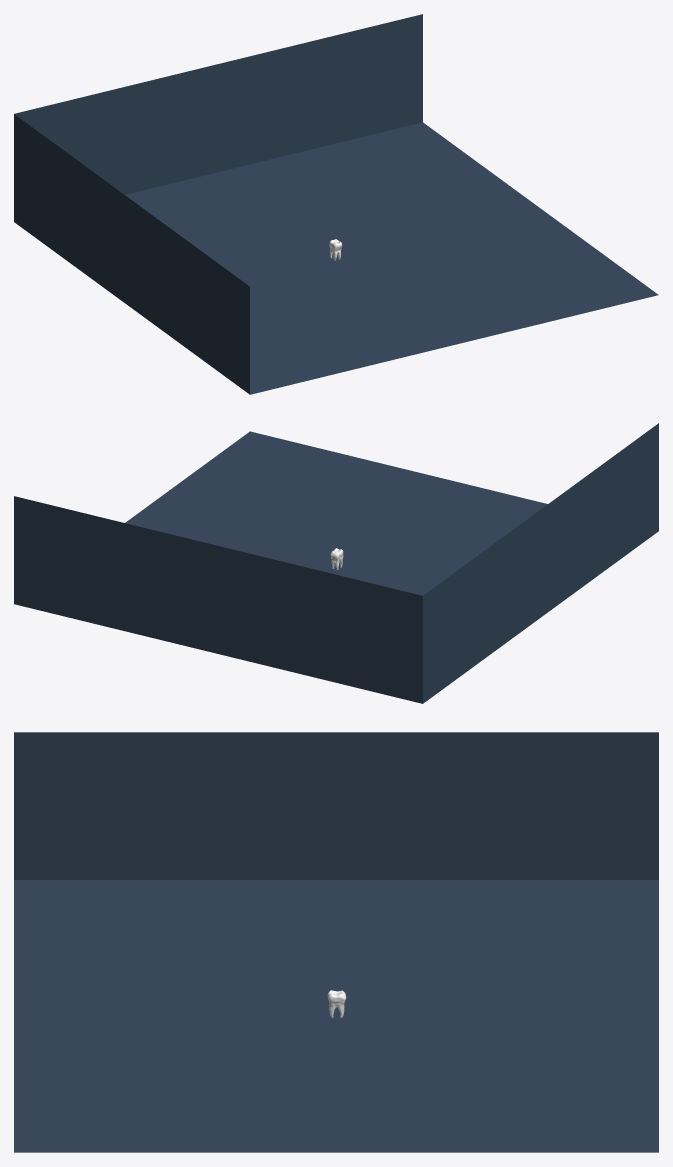
File: gigi.gltf
3 views of the same model, one above another, from view 1: azimuth 30°, elevation 25°; view 2: azimuth 150°, elevation 25°; view 3: azimuth 270°, elevation 25° (orthographic). The views are drawn at different scales.
Parts seen in each view (by area): view 1: Plane; view 2: Plane; view 3: Plane.
Part boxes in pixels (x1,y1,x2,y2): Plane: (14,14,658,394); Plane: (14,423,658,703); Plane: (14,732,658,1152).
Bounding box in the file's own units: 57.28 × 15.25 × 57.28.
